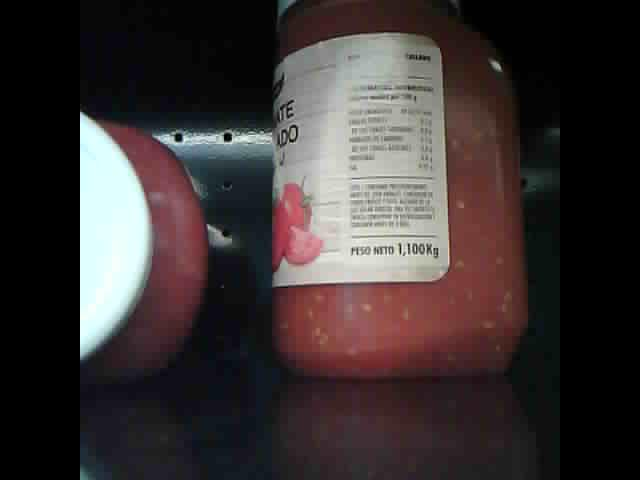tomate: (268, 3, 533, 385), (81, 107, 211, 389)
